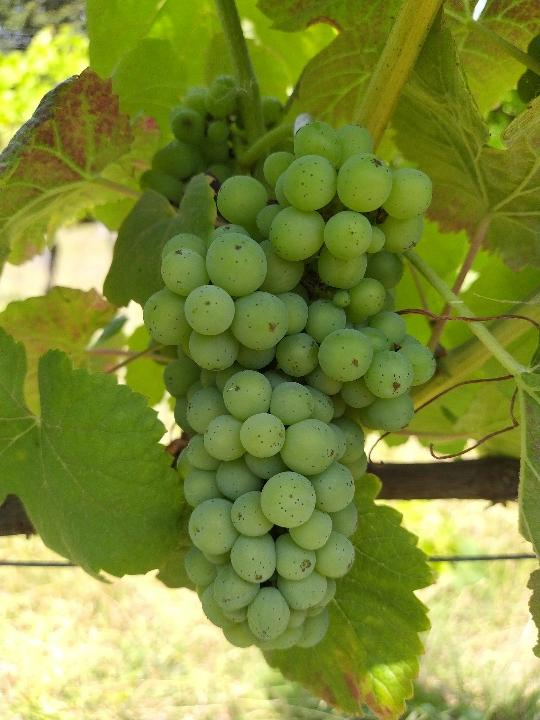grape: (138, 112, 435, 653)
